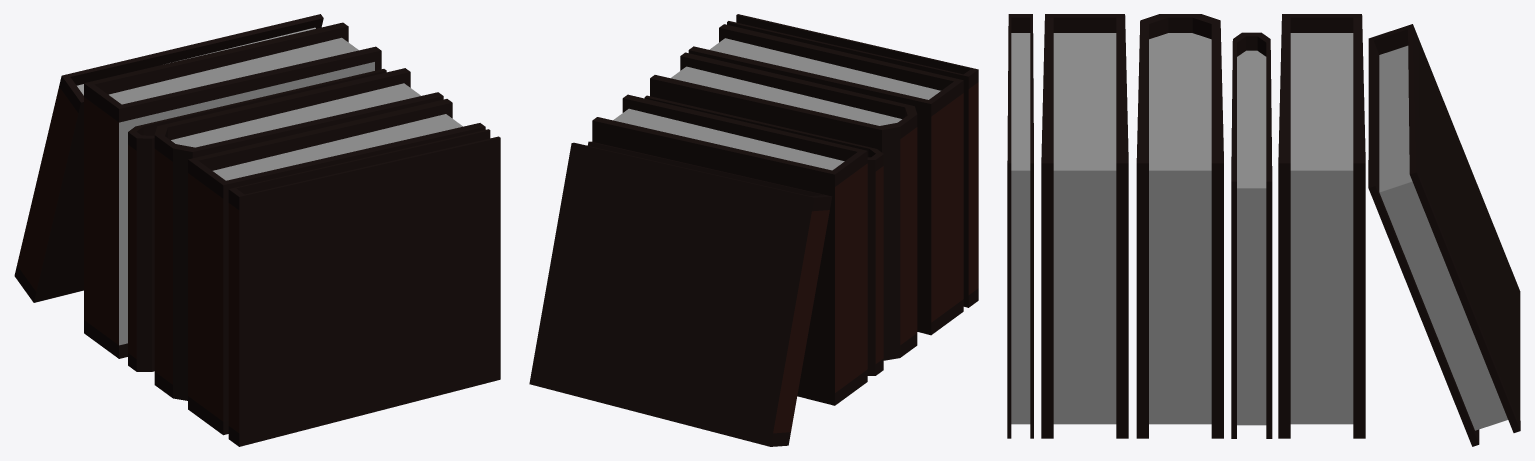
The model's file is Mega Book.FBX.
3 renders of one model, left to right at view 1: azimuth 30°, elevation 25°; view 2: azimuth 150°, elevation 25°; view 3: azimuth 270°, elevation 25°, orthographic. The views are drawn at different scales.
Parts seen in each view (by area): view 1: Box006, Box002, Box005, Box001, Box004, Box003; view 2: Box004, Box002, Box001, Box005, Box006, Box003; view 3: Box002, Box005, Box001, Box004, Box003, Box006.
Part boxes in pixels (x1,y1,x2,y2): Box006: (228, 129, 500, 446); Box002: (84, 22, 381, 358); Box005: (188, 99, 485, 435); Box001: (154, 68, 443, 400); Box004: (14, 14, 323, 302); Box003: (128, 69, 386, 371); Box004: (529, 141, 832, 446); Box002: (592, 94, 867, 405); Box001: (650, 52, 917, 360); Box005: (688, 24, 963, 335); Box006: (727, 14, 978, 307); Box003: (644, 95, 883, 375); Box002: (1278, 14, 1365, 438); Box005: (1041, 14, 1128, 438); Box001: (1136, 14, 1223, 438); Box004: (1368, 24, 1520, 446); Box003: (1231, 32, 1272, 438); Box006: (1007, 14, 1033, 438).
Bounding box in the file's own units: 48.9 × 45.95 × 73.22.
